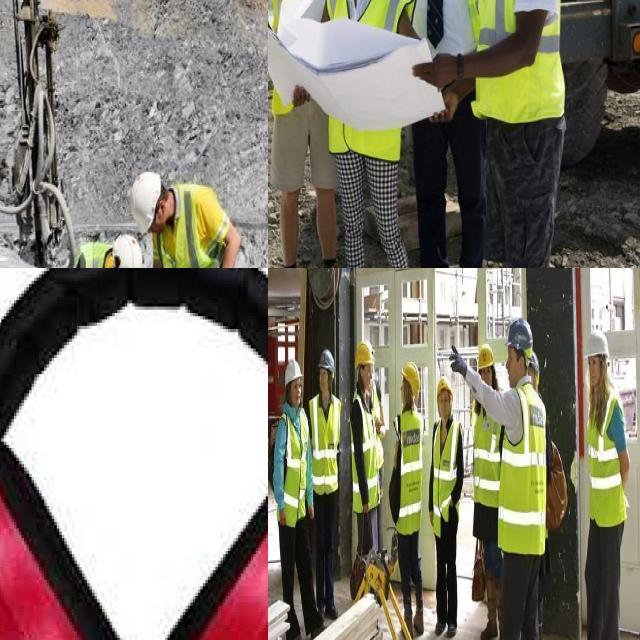Ear-protection: (0, 296, 268, 640)
face_nomask: (504, 344, 526, 394), (583, 353, 604, 387), (289, 375, 301, 409), (437, 389, 450, 417), (358, 363, 373, 386), (318, 370, 330, 398)
hand_glove: (446, 342, 472, 388)
hand_noglove: (414, 51, 464, 104), (277, 501, 287, 531), (307, 495, 315, 521)
head_helmet: (131, 168, 162, 233), (504, 317, 533, 365), (114, 233, 143, 268), (584, 327, 610, 361), (401, 359, 422, 398), (353, 342, 374, 372), (476, 342, 494, 374), (316, 348, 336, 375), (284, 359, 302, 389), (436, 376, 454, 402)
person: (470, 0, 571, 268), (328, 0, 412, 268), (478, 323, 546, 640), (403, 0, 482, 268), (274, 0, 339, 268), (578, 328, 630, 640), (273, 357, 322, 640), (389, 366, 428, 640), (472, 345, 505, 640), (310, 346, 345, 620), (139, 166, 224, 268), (430, 377, 460, 640), (349, 339, 382, 568)
shoes: (479, 617, 499, 640), (323, 595, 340, 620), (413, 604, 425, 638), (432, 612, 447, 639), (446, 615, 458, 640)
vest: (330, 0, 407, 167), (476, 0, 569, 127), (498, 382, 545, 556), (585, 382, 629, 530), (276, 0, 333, 113), (161, 185, 219, 268), (405, 0, 475, 61), (276, 403, 309, 523), (393, 405, 424, 531), (348, 392, 378, 510), (431, 420, 462, 534), (307, 389, 339, 492), (471, 402, 502, 506), (79, 249, 116, 268)
